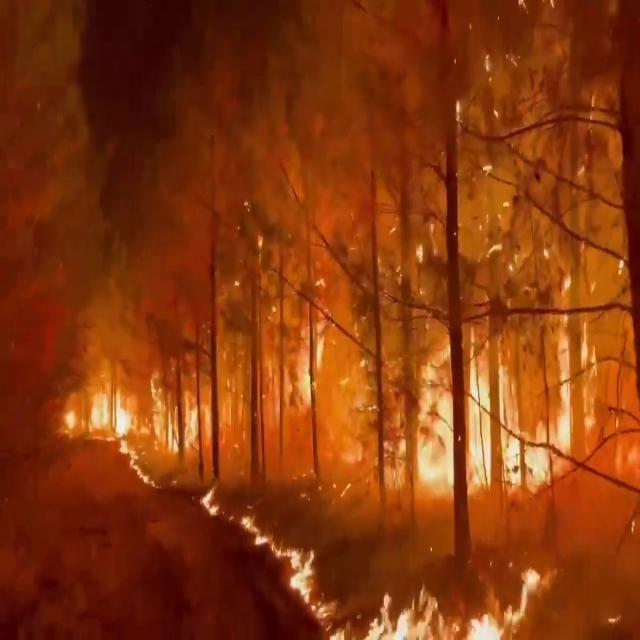Fire: (398, 328, 600, 497), (364, 562, 546, 640), (242, 506, 317, 610), (60, 357, 140, 452), (150, 362, 214, 464), (285, 538, 335, 636)
Smoke: (30, 0, 460, 386)
